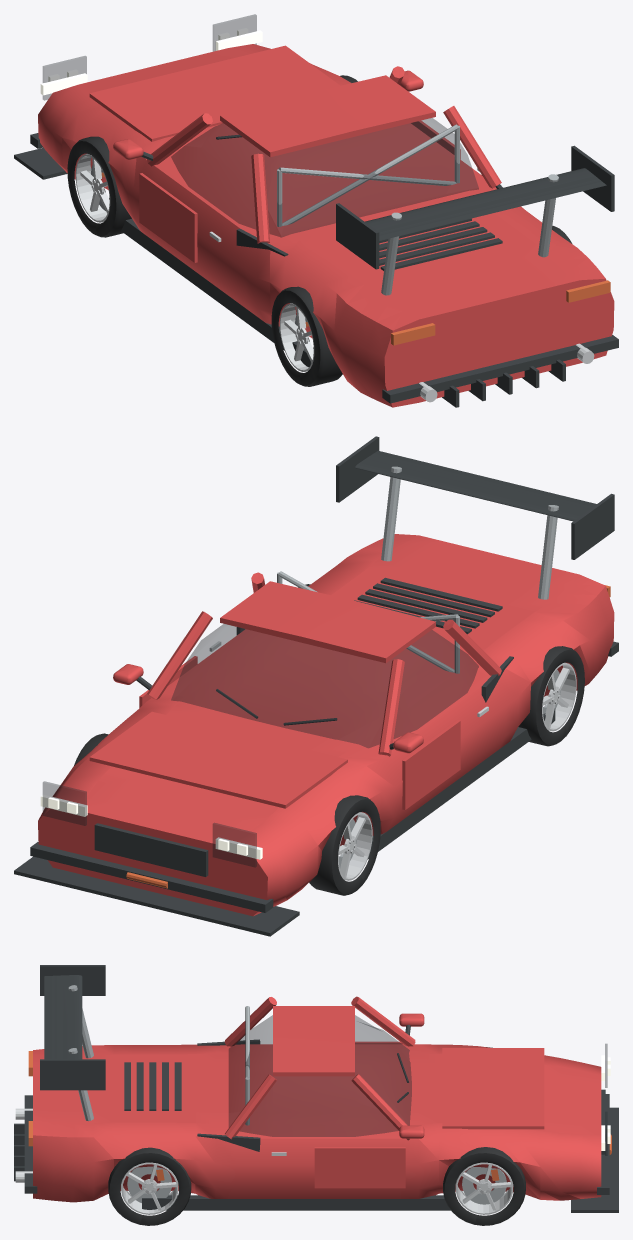
File: gt_mid.glb
3 views of the same model, one above another, from view 1: azimuth 30°, elevation 25°; view 2: azimuth 150°, elevation 25°; view 3: azimuth 270°, elevation 25° (orthographic). The views are drawn at different scales.
Parts seen in each view (by area): view 1: Body, Wheel_RL, Wheel_FL; view 2: Body, Wheel_FL, Wheel_RL; view 3: Body, Wheel_FR, Wheel_RR.
Boxes of the visible parts, bbox=[...] form: Body: bbox=[14, 14, 618, 407]; Wheel_RL: bbox=[271, 286, 342, 386]; Wheel_FL: bbox=[67, 136, 131, 237]; Body: bbox=[14, 436, 618, 936]; Wheel_FL: bbox=[309, 795, 380, 895]; Wheel_RL: bbox=[518, 646, 584, 746]; Body: bbox=[14, 965, 618, 1212]; Wheel_FR: bbox=[443, 1147, 525, 1225]; Wheel_RR: bbox=[108, 1147, 191, 1225].
Bounding box in the file's own units: 2.24 × 1.41 × 4.79.
